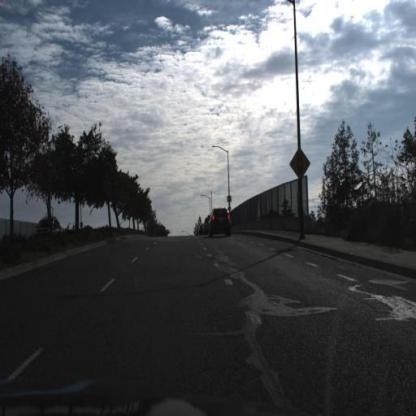car: (34, 218, 63, 242), (210, 208, 233, 237), (204, 216, 212, 235)
